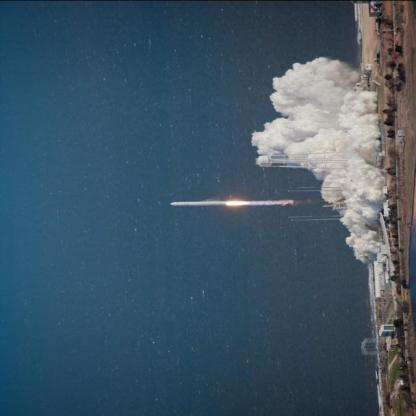MIL_TBM: (169, 199, 230, 207)
